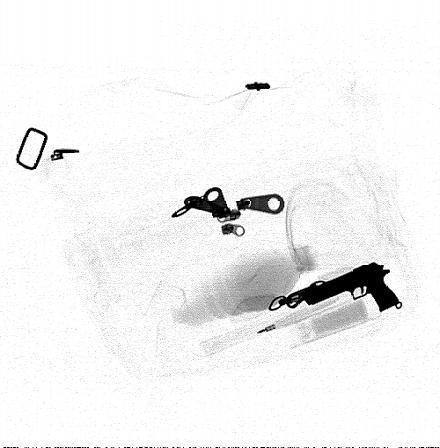Gun: (301, 262, 401, 311)
